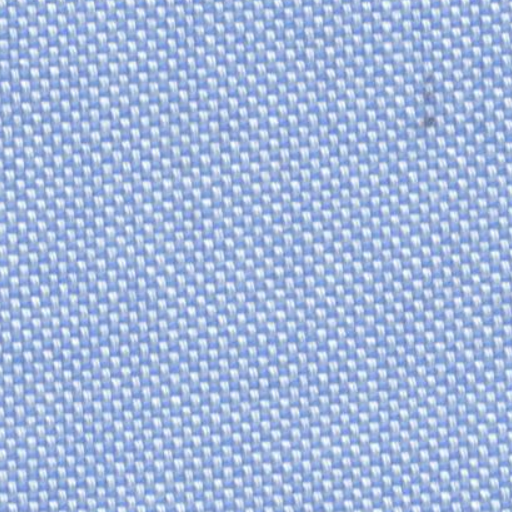WuZi: (400, 66, 450, 142)
